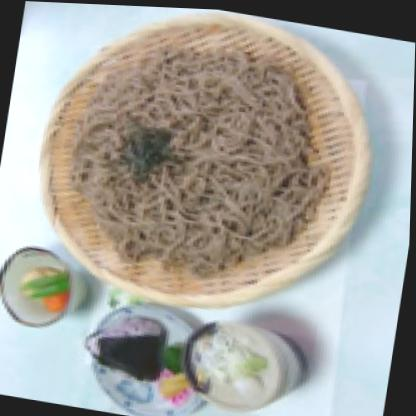memil soba: (58, 33, 324, 279)
rice roll: (78, 307, 175, 384)
